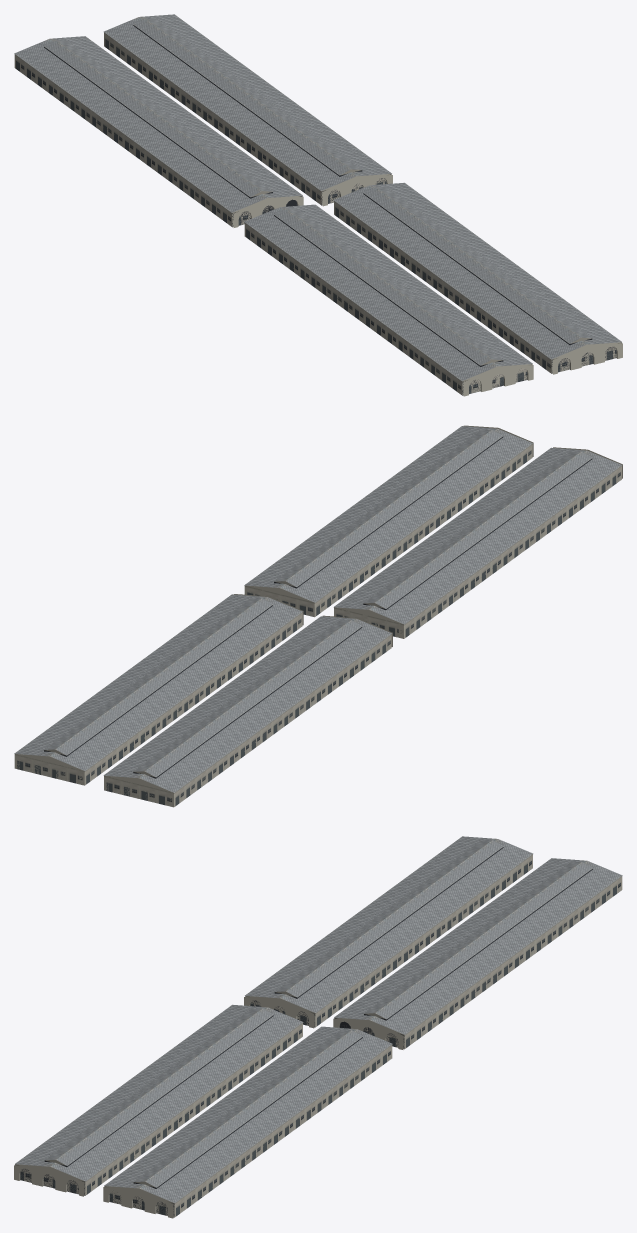
File: pier_45_sheds.glb
3 renders of one model, top to bottom at view 1: azimuth 30°, elevation 25°; view 2: azimuth 150°, elevation 25°; view 3: azimuth 330°, elevation 25°, orthographic.
Visible parts, largest first — view 1: pier_45_sheds; view 2: pier_45_sheds; view 3: pier_45_sheds.
Boxes of the visible parts, x1,y1,x2,y2 form: pier_45_sheds: [14, 14, 622, 396]; pier_45_sheds: [14, 425, 622, 807]; pier_45_sheds: [14, 836, 622, 1218].
Bounding box in the file's own units: 99.97 × 14 × 484.
Materials: 2 (2 with a texture image).
